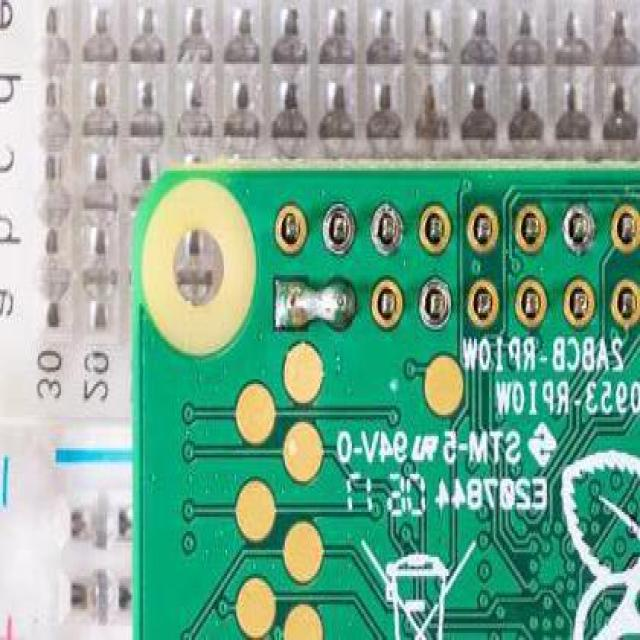Short_circuit: (268, 263, 361, 334)
